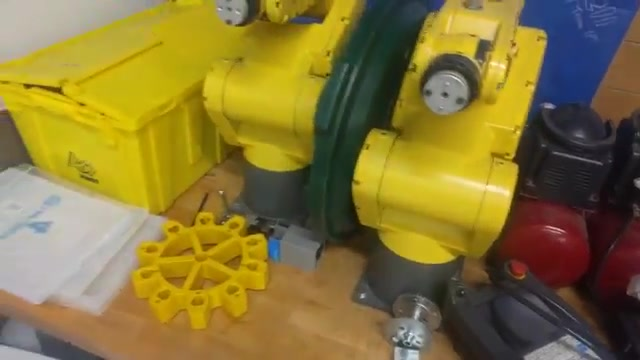gear: (131, 206, 275, 328)
